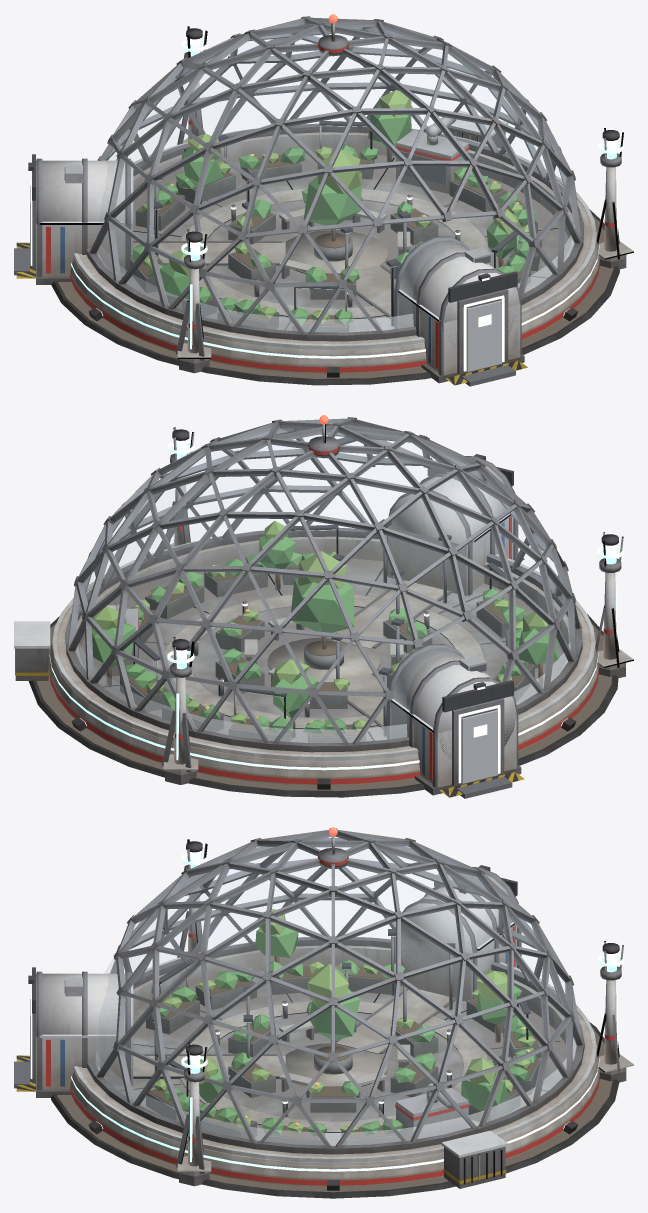
File: pressure_dome.glb
3 views of the same model, one above another, from view 1: azimuth 30°, elevation 25°; view 2: azimuth 150°, elevation 25°; view 3: azimuth 270°, elevation 25° (orthographic). The views are drawn at different scales.
Visible parts, largest first — view 1: DomeFrameBody, Build0Body, Build2Body, Build1Body, Airlock0Body, Airlock1Body, Build3Body, Build8Body, DomeGlass, FieldEmitter1Body, FieldEmitter2Body, Airlock0Door (+1 smaller); view 2: DomeFrameBody, Build0Body, Build2Body, Build1Body, Airlock1Body, Airlock0Body, Build8Body, DomeGlass, Build3Body, FieldEmitter0Body, FieldEmitter1Body, Airlock1Door (+1 smaller); view 3: DomeFrameBody, Build0Body, Build2Body, Build1Body, Airlock0Body, Airlock1Body, Build3Body, DomeGlass, Build8Body, FieldEmitter2Body, FieldEmitter0Body, FieldEmitter1Body.
Boxes of the visible parts, x1,y1,x2,y2 form: DomeFrameBody: (86,16,583,341); Build0Body: (16,123,619,385); Build2Body: (130,90,541,332); Build1Body: (120,153,570,332); Airlock0Body: (394,236,524,386); Airlock1Body: (14,154,133,284); Build3Body: (279,110,508,282); Build8Body: (71,121,599,377); DomeGlass: (94,224,575,332); FieldEmitter1Body: (176,229,211,373); FieldEmitter2Body: (597,128,633,269); Airlock0Door: (466,300,501,371); DomeFrameBody: (65,417,582,752); Build0Body: (28,528,618,797); Build2Body: (92,521,559,743); Build1Body: (79,558,566,742); Airlock1Body: (387,644,521,798); Airlock0Body: (387,454,518,596); Build8Body: (49,519,598,789); DomeGlass: (74,631,570,743); Build3Body: (14,604,403,686); FieldEmitter0Body: (162,637,198,784); FieldEmitter1Body: (595,532,633,678); Airlock1Door: (461,710,497,783); DomeFrameBody: (87,828,584,1154); Build0Body: (16,937,619,1198); Build2Body: (146,909,541,1145); Build1Body: (113,966,565,1145); Airlock0Body: (14,967,133,1097); Airlock1Body: (394,865,521,1001); Build3Body: (279,1021,508,1188); DomeGlass: (95,1038,576,1145); Build8Body: (71,929,599,1190); FieldEmitter2Body: (176,1042,211,1186); FieldEmitter0Body: (597,941,633,1082); FieldEmitter1Body: (177,839,207,957).
Bounding box in the file's own units: 16.47 × 7.78 × 17.52.
31 materials, 14 textured.
